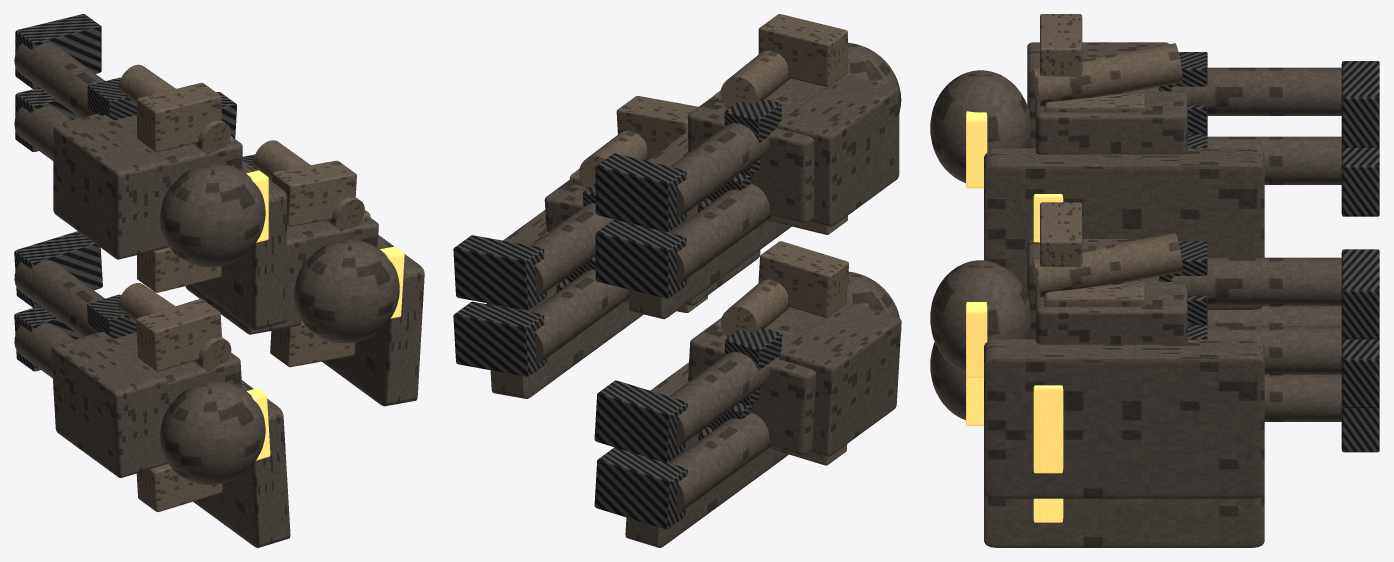
File: d-u02-dominion-assault-infantry-lod0.glb
3 renders of one model, left to right at view 1: azimuth 30°, elevation 25°; view 2: azimuth 150°, elevation 25°; view 3: azimuth 270°, elevation 25°, orthographic. The views are drawn at different scales.
Visible parts, largest first — view 1: soldier_1_backpack, soldier_2_backpack, soldier_2_helmet, soldier_1_helmet, soldier_0_helmet, soldier_0_shield, soldier_1_shield, soldier_2_shield, soldier_2_shoulder_1, soldier_1_shoulder_1, soldier_0_shoulder_1, soldier_2_leg_1 (+23 smaller); view 2: soldier_1_backpack, soldier_2_backpack, soldier_2_torso, soldier_1_torso, soldier_2_boot_1, soldier_1_boot_-1, soldier_1_boot_1, soldier_2_boot_-1, soldier_0_boot_1, soldier_0_boot_-1, soldier_1_leg_-1, soldier_2_leg_-1 (+20 smaller); view 3: soldier_0_shield, soldier_1_shield, soldier_2_shield, soldier_1_torso, soldier_0_leg_1, soldier_0_torso, soldier_1_leg_1, soldier_0_helmet, soldier_1_helmet, soldier_1_arm_1, soldier_0_arm_1, soldier_0_leg_-1 (+25 smaller).
Part boxes in pixels (x1,y1,x2,y2): soldier_1_backpack: (53, 115, 169, 259); soldier_2_backpack: (51, 332, 168, 477); soldier_2_helmet: (160, 381, 265, 485); soldier_1_helmet: (160, 163, 265, 267); soldier_0_helmet: (294, 240, 399, 343); soldier_0_shield: (322, 235, 424, 406); soldier_1_shield: (190, 160, 286, 330); soldier_2_shield: (193, 380, 290, 547); soldier_2_shoulder_1: (136, 298, 221, 371); soldier_1_shoulder_1: (137, 82, 221, 152); soldier_0_shoulder_1: (272, 160, 356, 226); soldier_2_leg_1: (14, 260, 104, 336); soldier_1_backpack: (777, 75, 899, 226); soldier_2_backpack: (779, 302, 901, 456); soldier_2_torso: (688, 307, 824, 454); soldier_1_torso: (688, 78, 826, 223); soldier_2_boot_1: (594, 380, 687, 462); soldier_1_boot_-1: (595, 220, 686, 298); soldier_1_boot_1: (595, 153, 686, 232); soldier_2_boot_-1: (594, 447, 687, 529); soldier_0_boot_1: (453, 235, 546, 310); soldier_0_boot_-1: (453, 301, 546, 376); soldier_1_leg_-1: (670, 183, 771, 285); soldier_2_leg_-1: (669, 412, 770, 514); soldier_0_shield: (984, 339, 1264, 498); soldier_1_shield: (984, 148, 1264, 309); soldier_2_shield: (984, 493, 1264, 547); soldier_1_torso: (1035, 87, 1187, 154); soldier_0_leg_1: (1172, 257, 1341, 305); soldier_0_torso: (1035, 276, 1187, 344); soldier_1_leg_1: (1172, 67, 1341, 115); soldier_0_helmet: (930, 260, 1031, 373); soldier_1_helmet: (930, 70, 1031, 182); soldier_1_arm_1: (1032, 43, 1182, 106); soldier_0_arm_1: (1032, 233, 1182, 297); soldier_0_leg_-1: (1207, 326, 1341, 374).
Size of what is drawn, in the model's own units: 1.76 by 2.5 by 2.13.
Materials: 4 (4 with a texture image).
